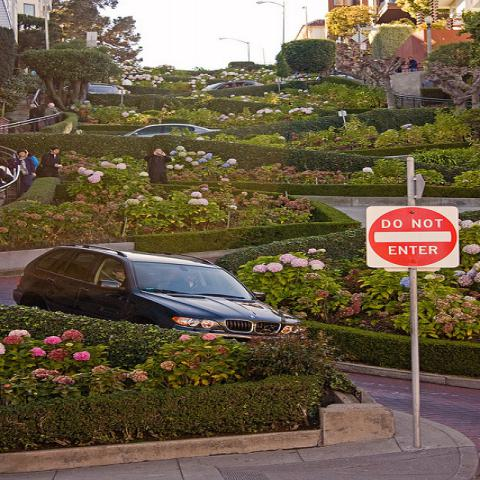car: (13, 243, 288, 332), (122, 124, 220, 137), (203, 82, 263, 91), (87, 82, 120, 94), (115, 86, 131, 94), (336, 73, 350, 77)
